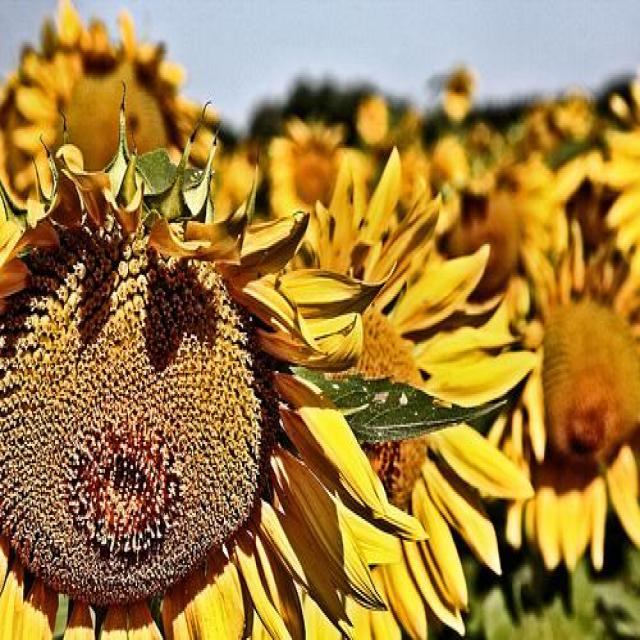sunflower: (0, 154, 428, 640), (282, 147, 537, 640), (490, 218, 640, 570), (2, 0, 236, 213), (436, 149, 553, 299), (267, 116, 370, 220), (601, 132, 640, 264)
